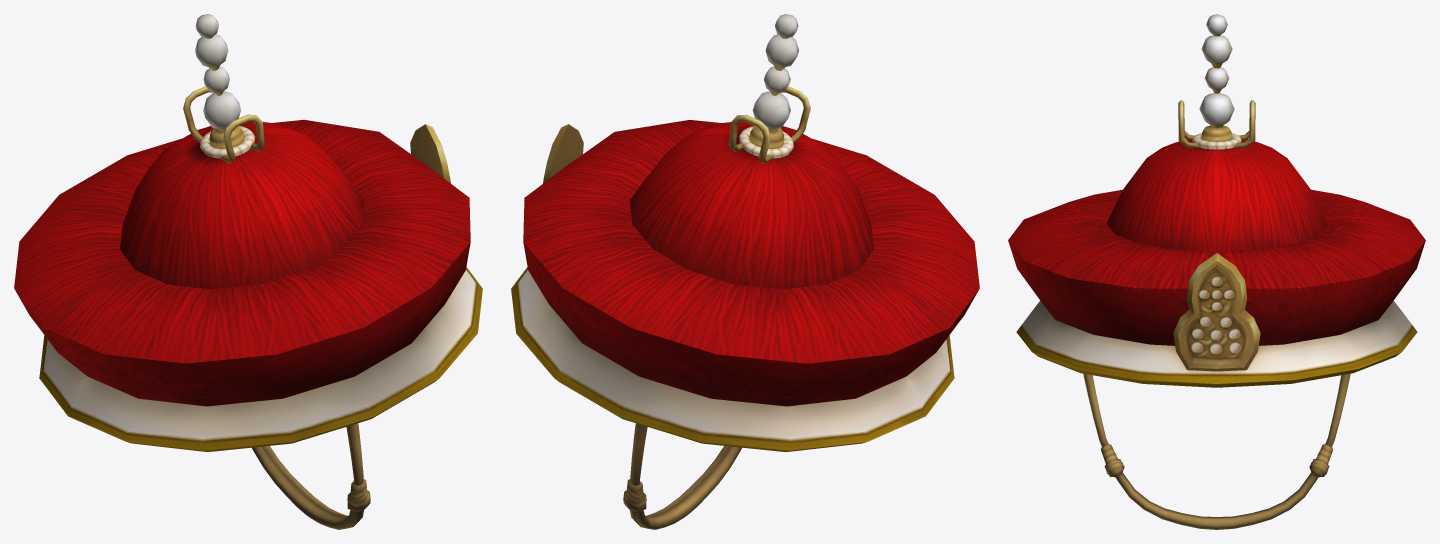
File: hair_acc_006.FBX
The picture shows the model from 3 angles, left to right: view 1: azimuth 30°, elevation 25°; view 2: azimuth 150°, elevation 25°; view 3: azimuth 270°, elevation 25°; orthographic projection. The views are drawn at different scales.
Visible parts, largest first — view 1: hair_acc_006; view 2: hair_acc_006; view 3: hair_acc_006.
Boxes of the visible parts, x1,y1,x2,y2 form: hair_acc_006: (14, 14, 482, 529); hair_acc_006: (511, 14, 979, 529); hair_acc_006: (1008, 14, 1425, 529).
Bounding box in the file's own units: 82.49 × 101 × 82.06.
